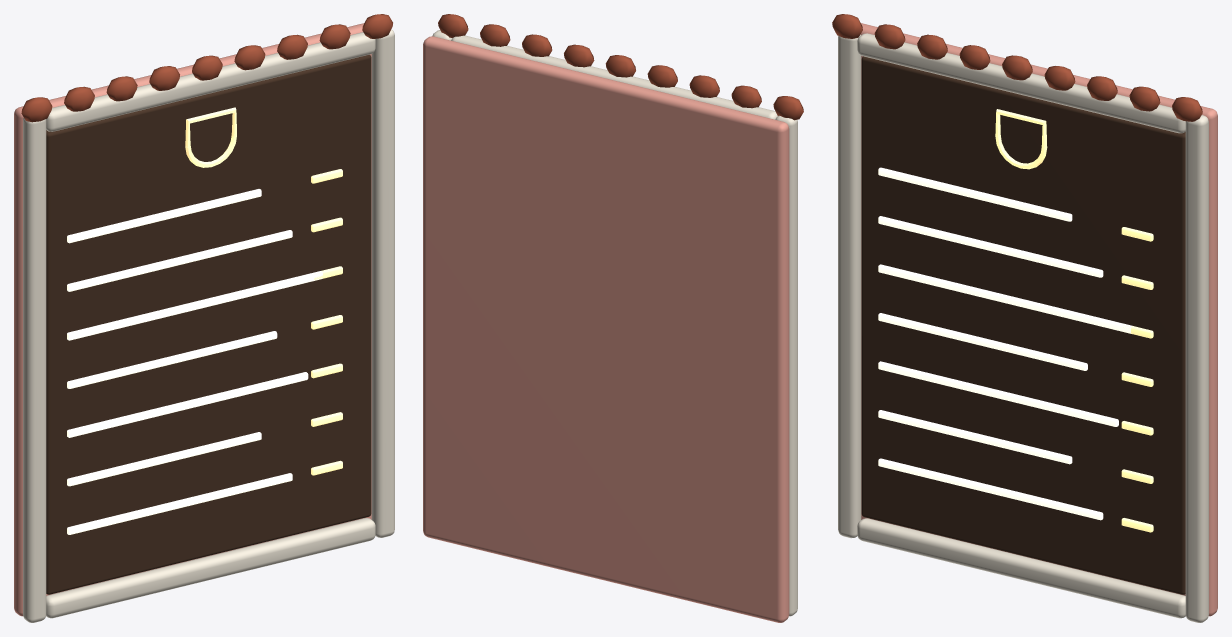
The model's file is menu_board.glb.
3 views of the same model, side by side, from view 1: azimuth 30°, elevation 25°; view 2: azimuth 150°, elevation 25°; view 3: azimuth 330°, elevation 25° (orthographic).
Visible parts, largest first — view 1: menu_board; view 2: menu_board; view 3: menu_board.
Boxes of the visible parts, left/top/right/bottom form: menu_board: left=14, top=14, right=394, bottom=622; menu_board: left=423, top=14, right=803, bottom=622; menu_board: left=832, top=14, right=1217, bottom=622.
Size of the model in its own units: 0.965 by 1.29 by 0.095.
